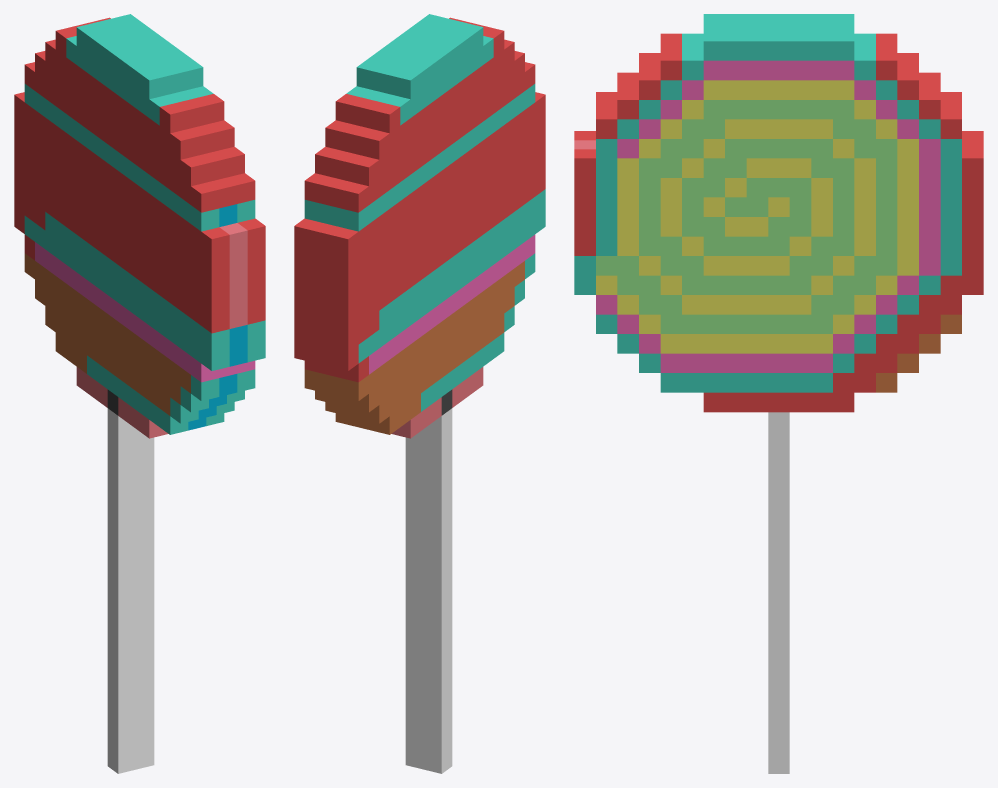
File: Eruption-21.obj
3 views of the same model, side by side, from view 1: azimuth 30°, elevation 25°; view 2: azimuth 150°, elevation 25°; view 3: azimuth 270°, elevation 25° (orthographic). The views are drawn at different scales.
Bounding box in the file's own units: 0.3 × 3.8 × 1.9.
Materials: 1 (1 with a texture image).
